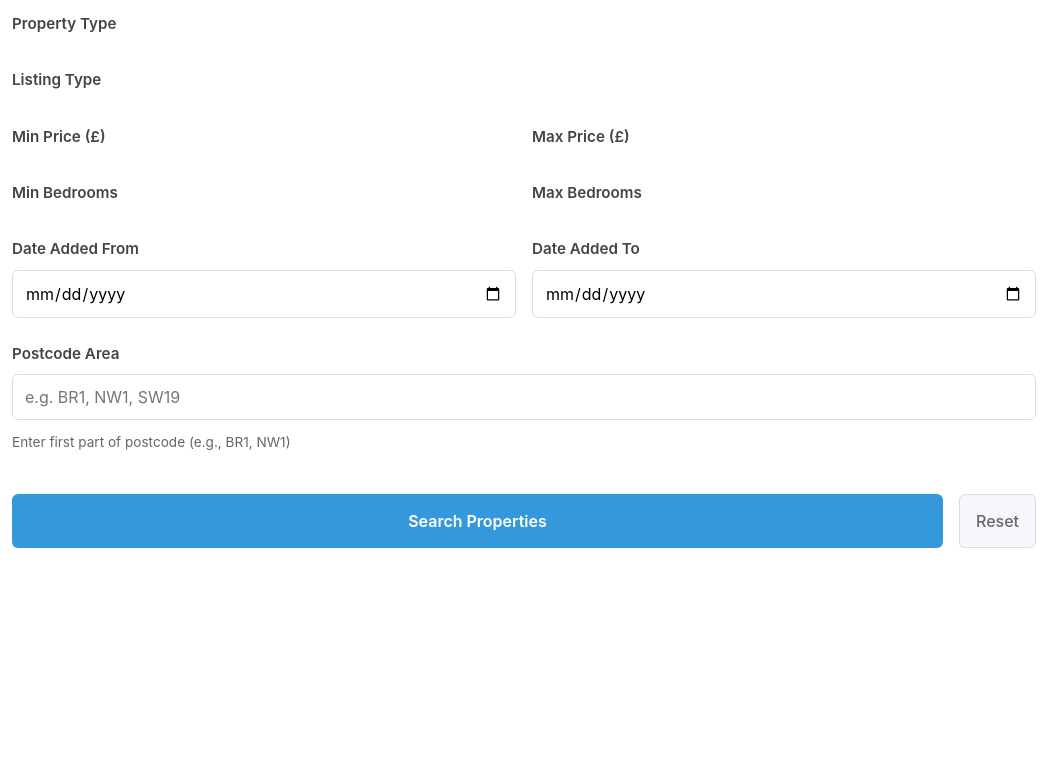
Test: SearchForm Component › reset button clears form fields
Note: Get the postcode input and type something
Type "BR1" into the field with placeholder "e.g. BR1, NW1, SW19".
click(524, 397); type("BR1")  # box [12,374,1036,420]
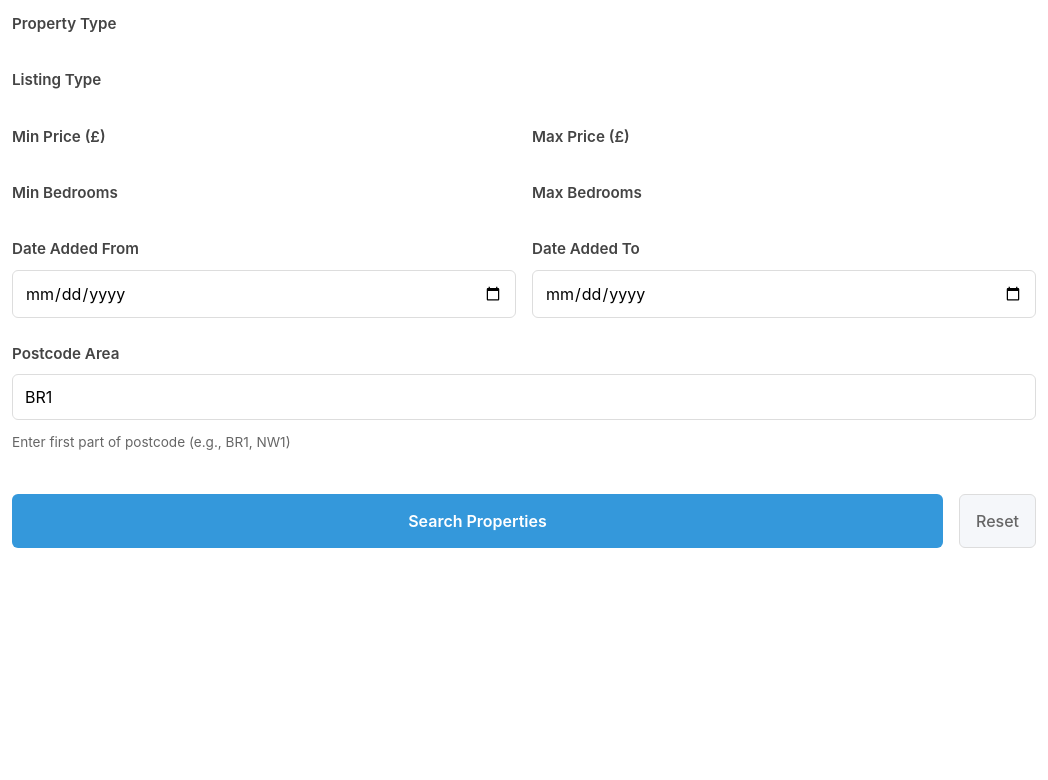
Note: Click reset button
Click the button "Reset".
click(998, 521)  # box [959,494,1036,548]
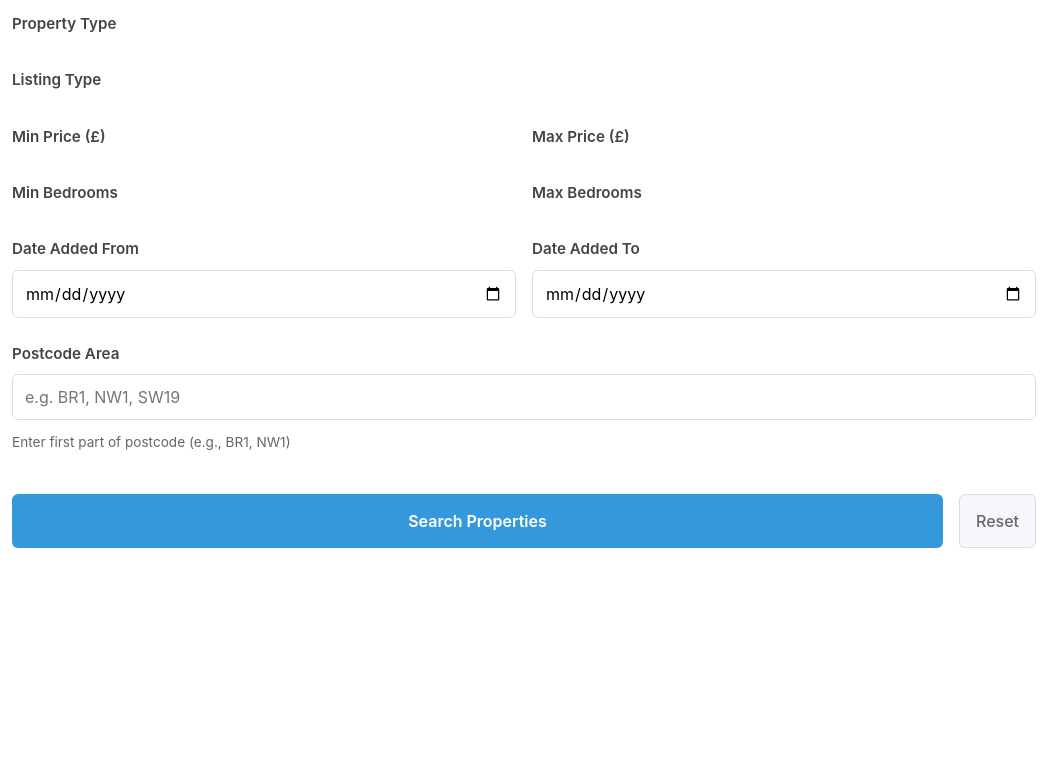
Expected: the field with placeholder "e.g. BR1, NW1, SW19" is empty, [12,374,1036,420]
